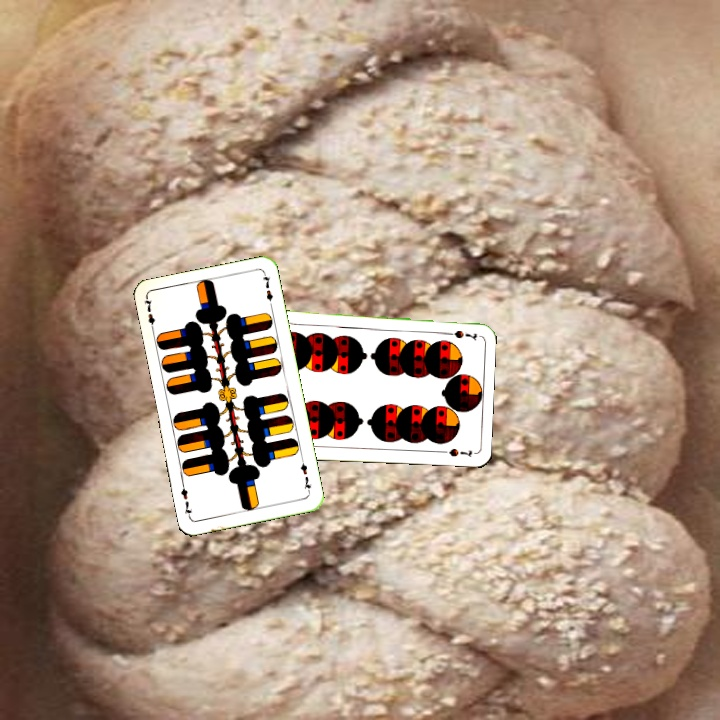E7: (296, 455, 314, 496), (140, 294, 157, 335)
S7: (439, 326, 479, 341)
